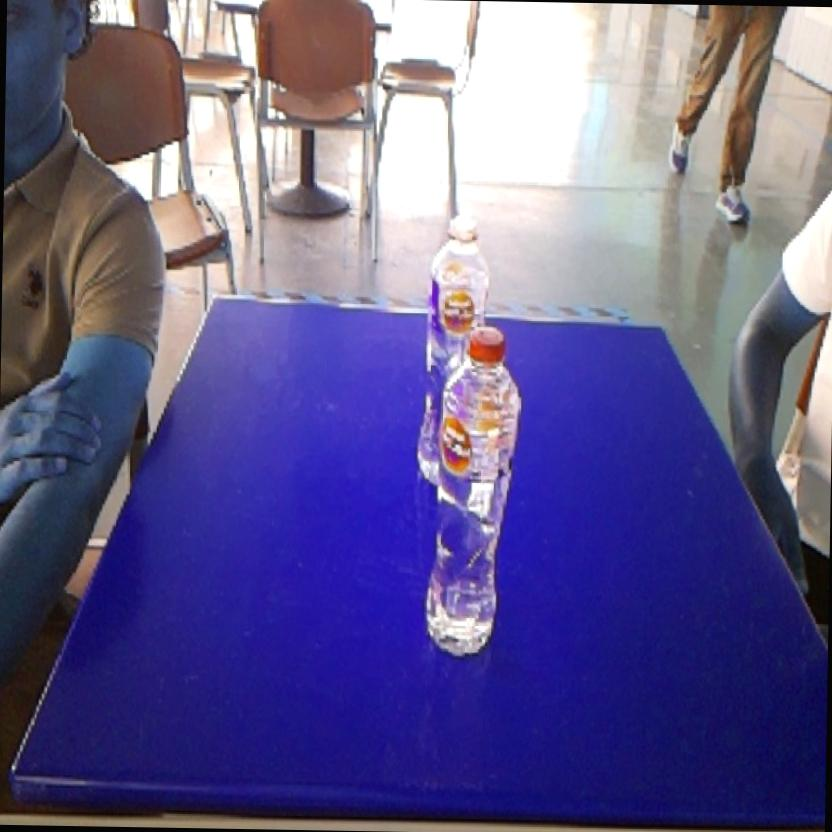good: (418, 319, 526, 666)
no_cap: (417, 207, 507, 323)
